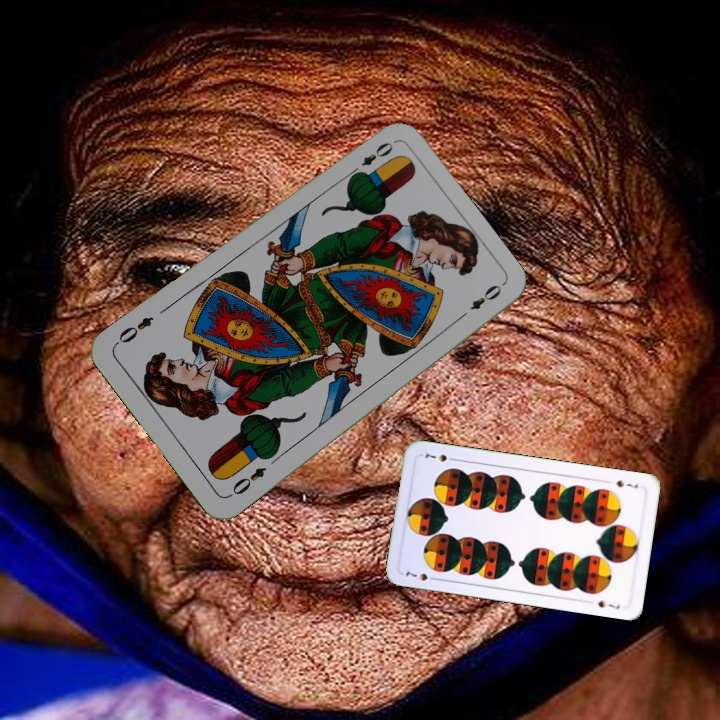EO: (345, 137, 396, 180), (225, 463, 269, 500)
S7: (401, 565, 440, 584), (612, 476, 640, 491)
